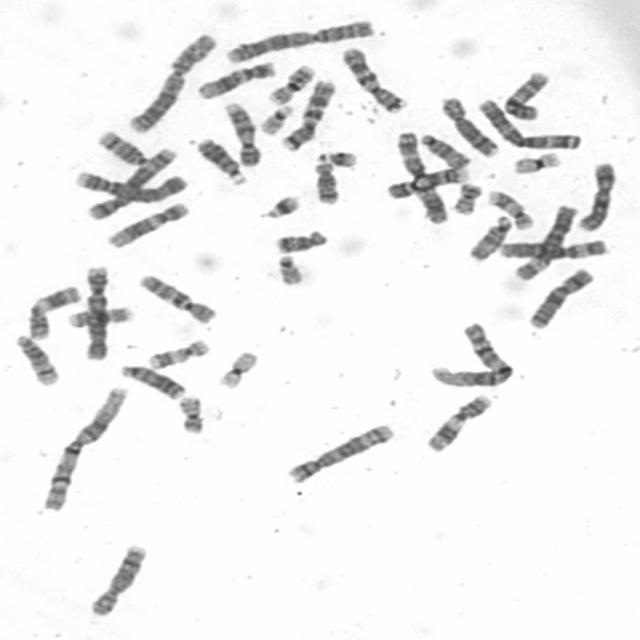A1: (38, 382, 130, 512), (424, 319, 516, 389)
A2: (125, 30, 218, 135), (221, 17, 376, 64)
A3: (474, 96, 583, 150), (392, 129, 450, 225)
B4: (69, 166, 189, 204), (79, 262, 111, 362)
B5: (83, 144, 180, 222), (285, 420, 396, 484)
C10: (134, 270, 218, 326), (500, 68, 553, 122)
C11: (422, 392, 495, 453), (22, 282, 81, 341)
C12: (103, 198, 193, 250), (194, 58, 278, 101)
C6: (511, 201, 580, 282), (495, 236, 611, 261)
C7: (338, 43, 407, 114), (278, 77, 338, 152)
C8: (84, 541, 149, 617), (437, 94, 500, 159)
C9: (384, 164, 469, 200), (221, 100, 261, 168)
D13: (192, 135, 248, 186), (115, 362, 186, 400)
D14: (12, 332, 61, 386), (94, 127, 150, 167)
D15: (465, 213, 512, 262), (417, 131, 471, 170)
E16: (263, 61, 317, 106), (64, 303, 135, 329)
E17: (144, 336, 211, 371), (486, 187, 536, 231)
E18: (272, 227, 329, 254), (311, 159, 341, 205)
F19: (216, 349, 260, 389), (510, 148, 564, 176)
F20: (174, 392, 208, 436), (449, 180, 483, 216)
G21: (258, 192, 302, 221), (314, 148, 360, 169)
G22: (256, 102, 294, 136), (275, 252, 305, 286)
X: (524, 266, 596, 330), (574, 159, 618, 232)
